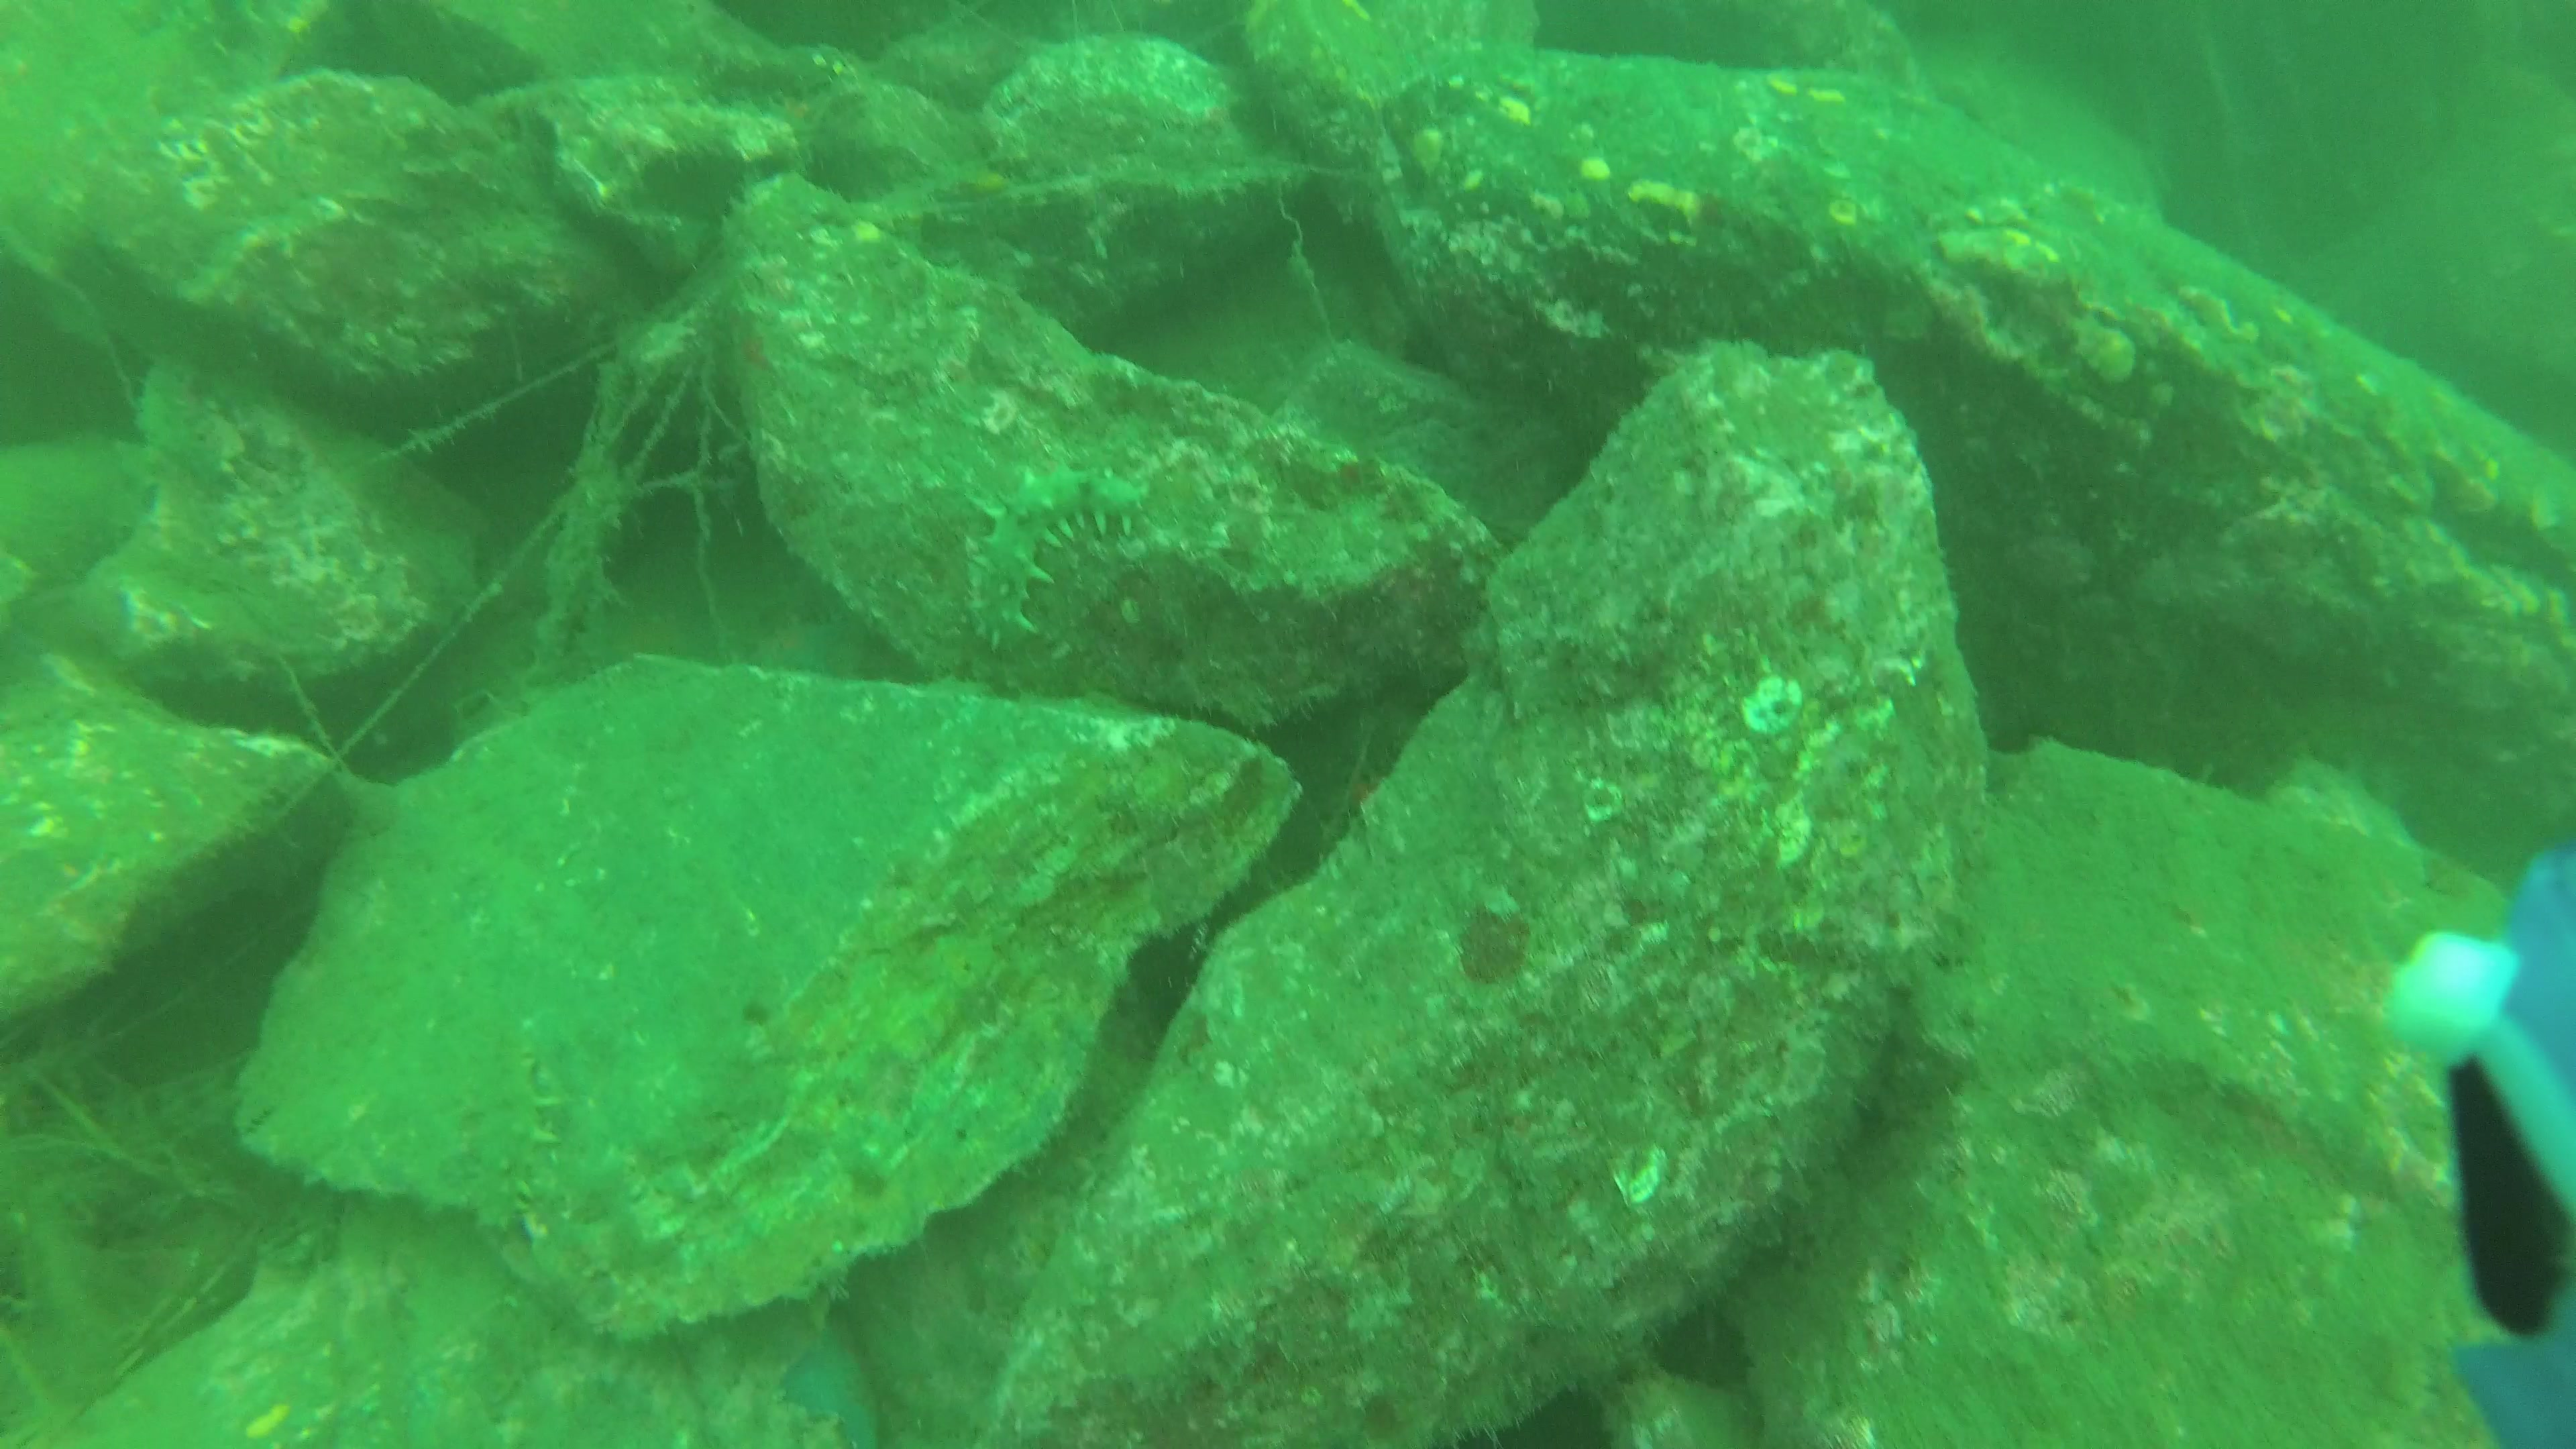holothurian: (936, 458, 1146, 653)
starfish: (770, 1329, 888, 1449)
